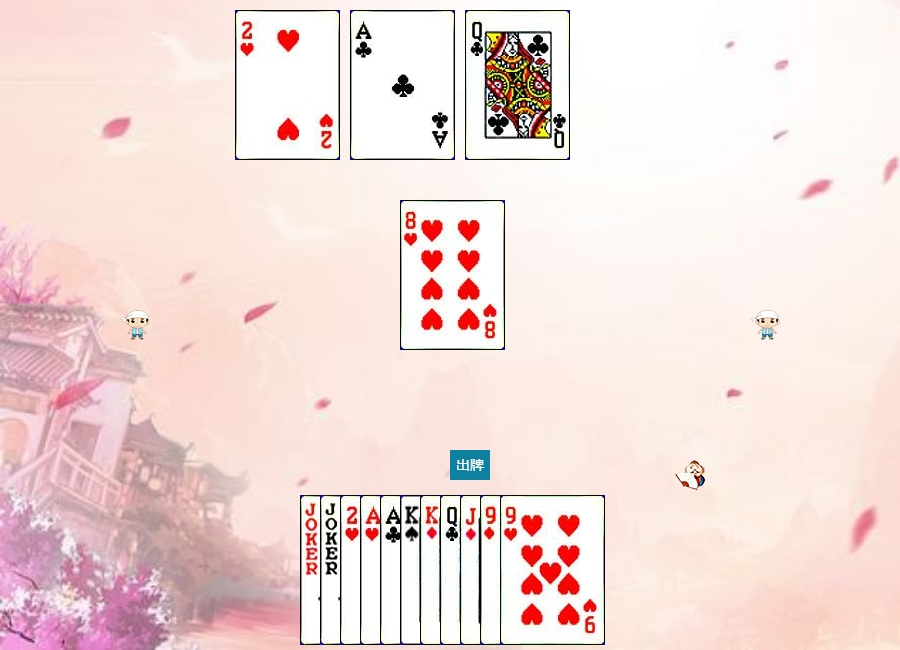11~1: (460, 495, 565, 645)
12~2: (465, 10, 570, 160), (440, 495, 545, 645)
13~1: (420, 495, 525, 645)
13~4: (400, 495, 505, 645)
14~2: (350, 10, 455, 160), (380, 495, 485, 645)
14~3: (360, 495, 465, 645)
15~3: (235, 10, 340, 160), (340, 495, 445, 645)
17~3: (320, 495, 425, 645)
18~4: (300, 495, 405, 645)
8~3: (400, 200, 505, 350)
9~1: (480, 495, 585, 645)
9~3: (500, 495, 605, 645)
